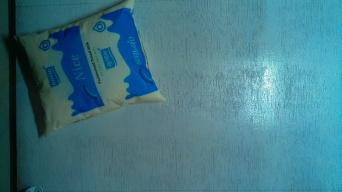m: (8, 1, 168, 124)
